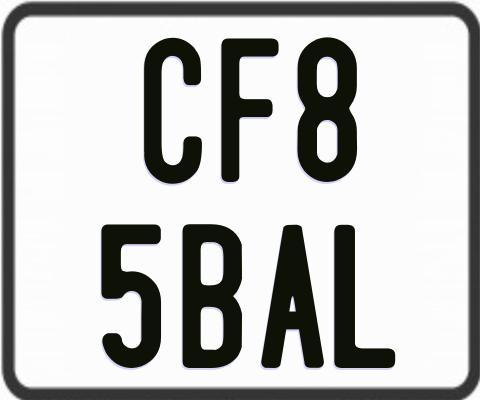5: (101, 222, 163, 366)
8: (295, 37, 357, 187)
A: (259, 222, 328, 370)
B: (183, 221, 248, 366)
C: (144, 38, 208, 187)
F: (218, 37, 280, 185)
L: (331, 222, 392, 371)
